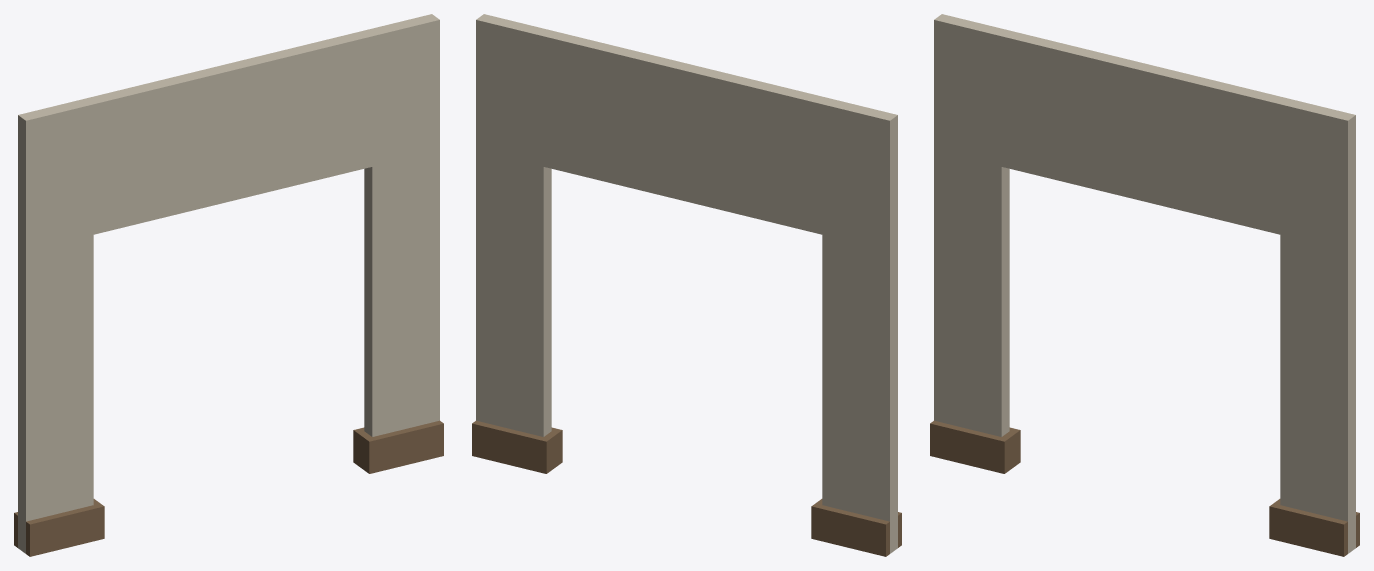
The model's file is Mesh_WallBaseboard_A5.fbx.
3 views of the same model, side by side, from view 1: azimuth 30°, elevation 25°; view 2: azimuth 150°, elevation 25°; view 3: azimuth 330°, elevation 25° (orthographic).
Parts seen in each view (by area): view 1: Mesh_WallBaseboard_A5; view 2: Mesh_WallBaseboard_A5; view 3: Mesh_WallBaseboard_A5.
Part boxes in pixels (x1,y1,x2,y2): Mesh_WallBaseboard_A5: (14, 14, 443, 556); Mesh_WallBaseboard_A5: (472, 14, 901, 556); Mesh_WallBaseboard_A5: (930, 14, 1359, 556).
Bounding box in the file's own units: 3 × 3 × 0.2.
